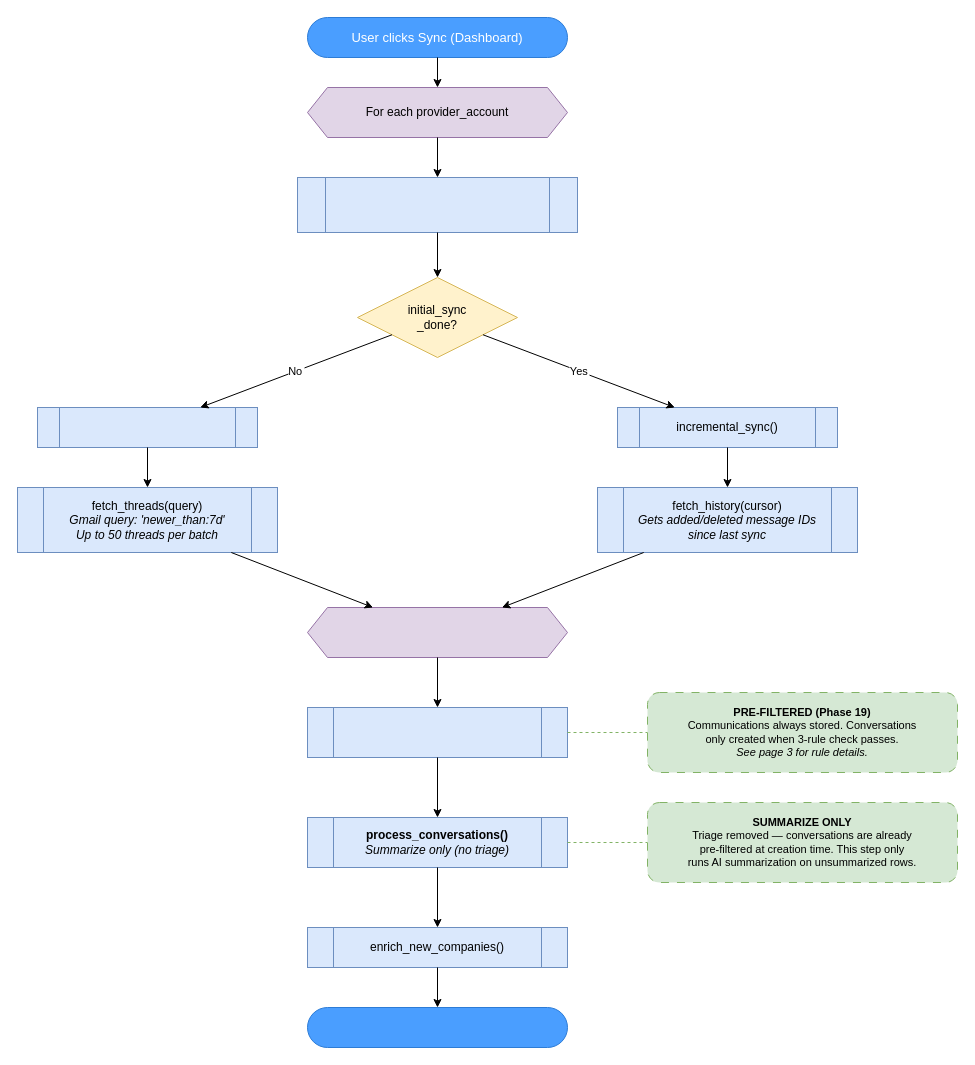
This 975x1065 diagram has some shape labels left out. The shapes that lost their labels are listed below. From the top down, each one's centre as x and y in pixels, then its label:
point (437, 204): Authenticate & sync_contacts() Google Contacts → contact_identifiers table
point (147, 427): initial_sync()
point (437, 632): For each Gmail thread
point (437, 732): _store_thread() See page 2 for detail
point (437, 1027): Sync complete
